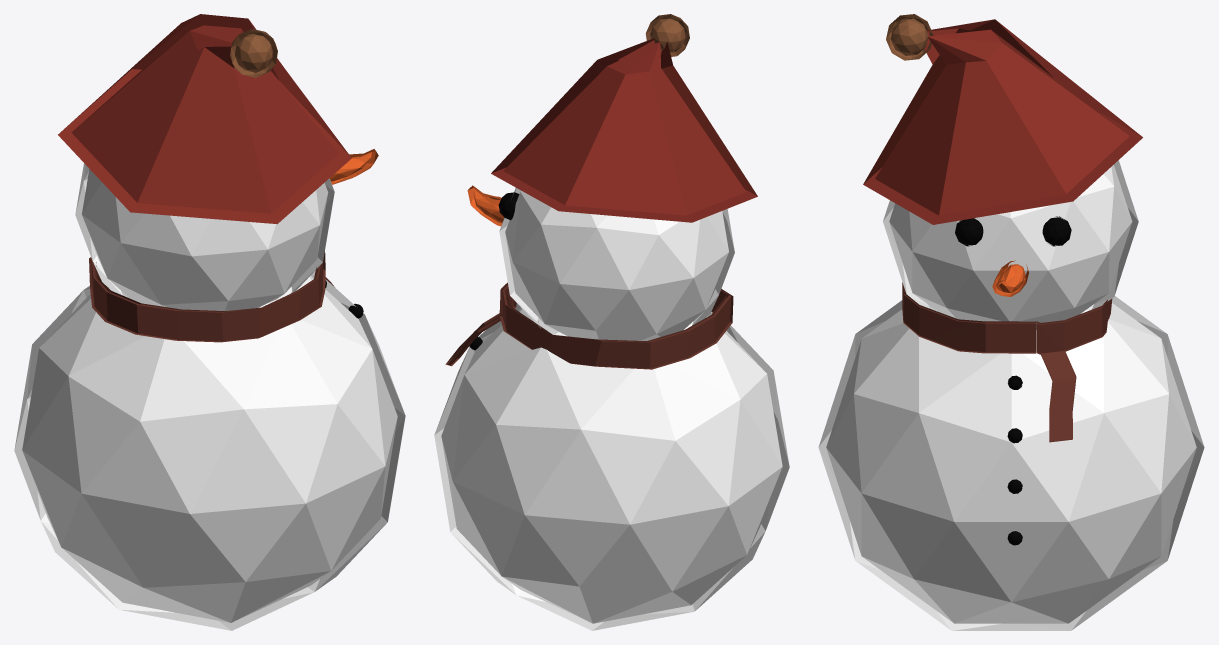
Rendered from Snowman.glb.
The picture shows the model from 3 angles, left to right: view 1: azimuth 30°, elevation 25°; view 2: azimuth 150°, elevation 25°; view 3: azimuth 270°, elevation 25°; orthographic projection. The views are drawn at different scales.
Visible parts, largest first — view 1: Icosphere, Cone, Icosphere.001, Plane.001, Icosphere.009, Icosphere.004; view 2: Icosphere, Cone, Icosphere.001, Plane.001, Icosphere.009, Icosphere.004; view 3: Icosphere, Cone, Icosphere.001, Plane.001, Icosphere.009, Icosphere.004, Icosphere.003, Icosphere.002.
Part boxes in pixels (x1,y1,x2,y2): Icosphere: [14, 270, 405, 630]; Cone: [58, 14, 351, 224]; Icosphere.001: [75, 163, 334, 311]; Plane.001: [89, 251, 334, 342]; Icosphere.009: [230, 28, 277, 77]; Icosphere.004: [329, 149, 378, 184]; Icosphere: [434, 303, 789, 630]; Cone: [491, 38, 757, 222]; Icosphere.001: [499, 188, 734, 340]; Plane.001: [445, 282, 733, 369]; Icosphere.009: [645, 14, 689, 56]; Icosphere.004: [467, 185, 504, 226]; Icosphere: [818, 296, 1204, 630]; Cone: [863, 19, 1142, 224]; Icosphere.001: [883, 160, 1138, 329]; Plane.001: [902, 282, 1112, 442]; Icosphere.009: [886, 14, 933, 60]; Icosphere.004: [992, 260, 1028, 296]; Icosphere.003: [1042, 216, 1071, 246]; Icosphere.002: [955, 218, 983, 246].
Bounding box in the file's own units: 1.9 × 3.44 × 2.
